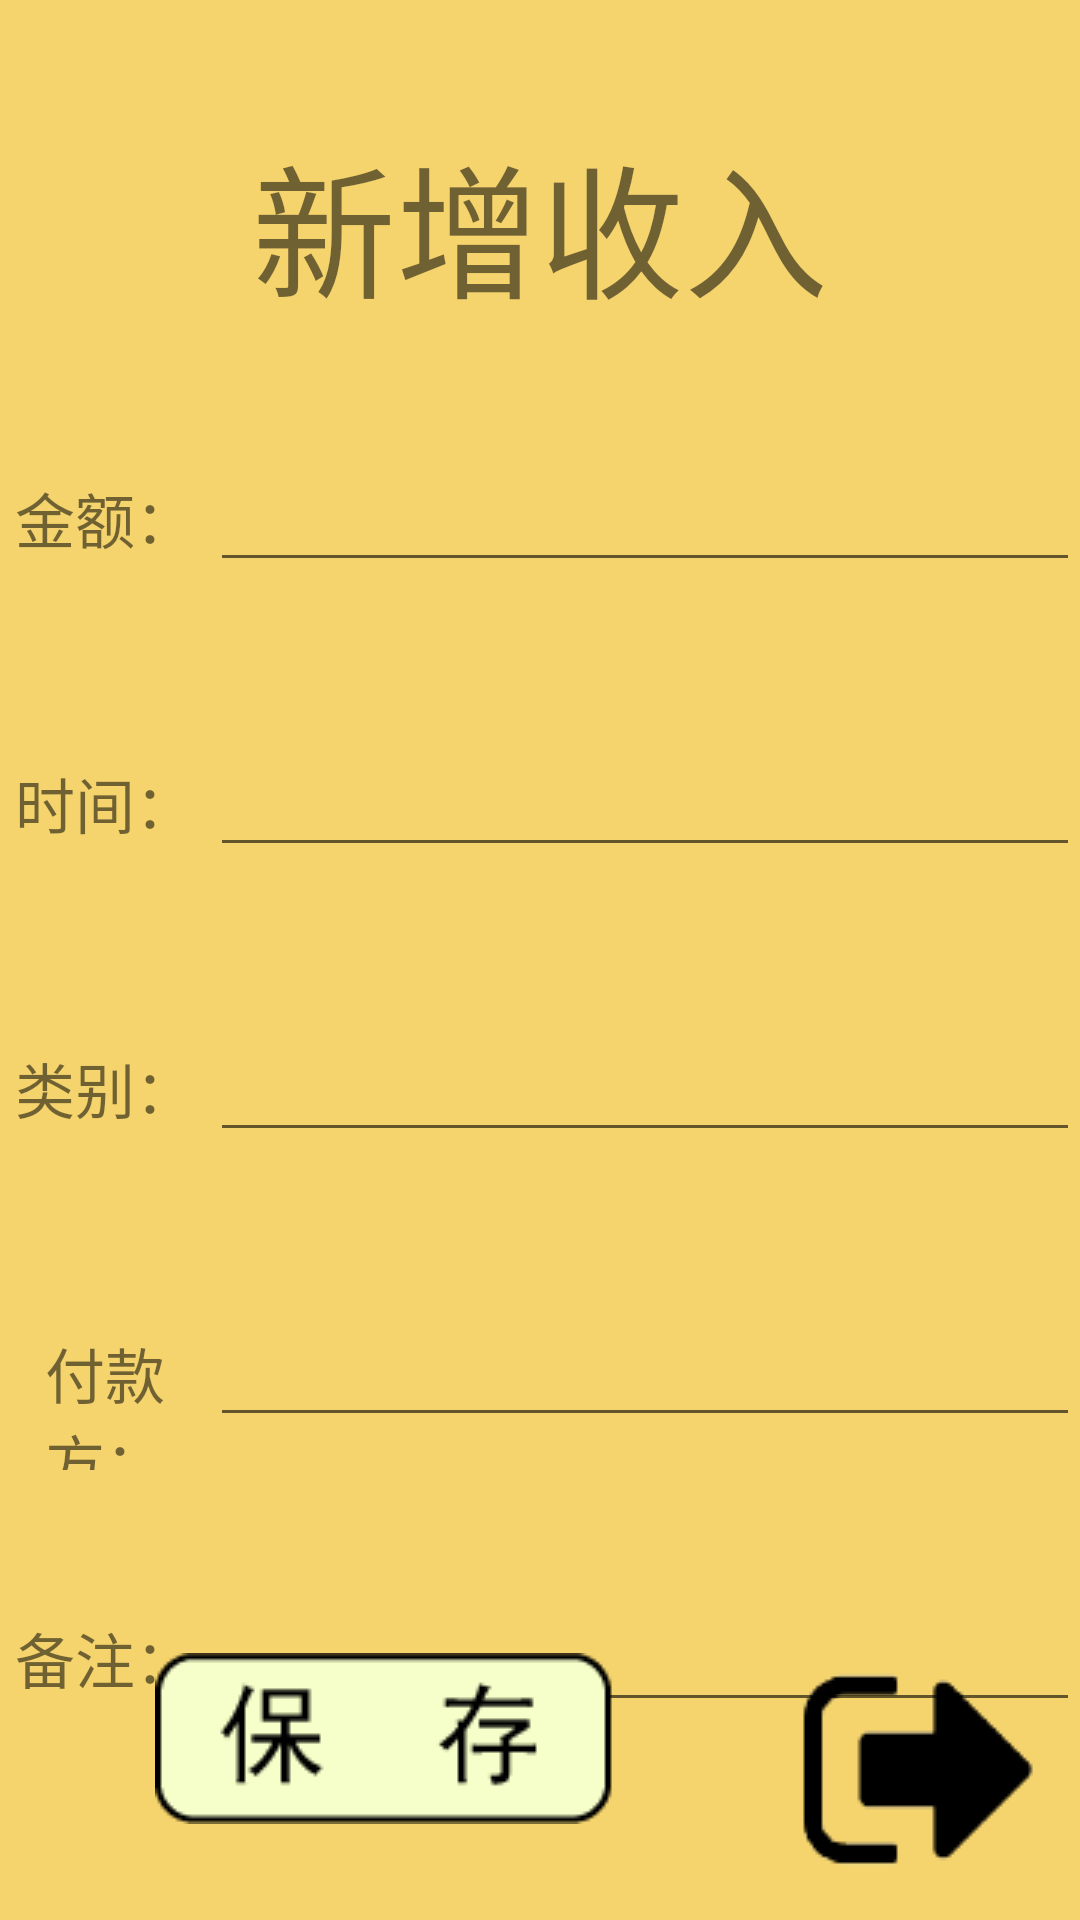

Where icons sit on this 1080x1920 app screen, as (x1, y1, x2, y2):
quit: (768, 1675, 1068, 1864)
